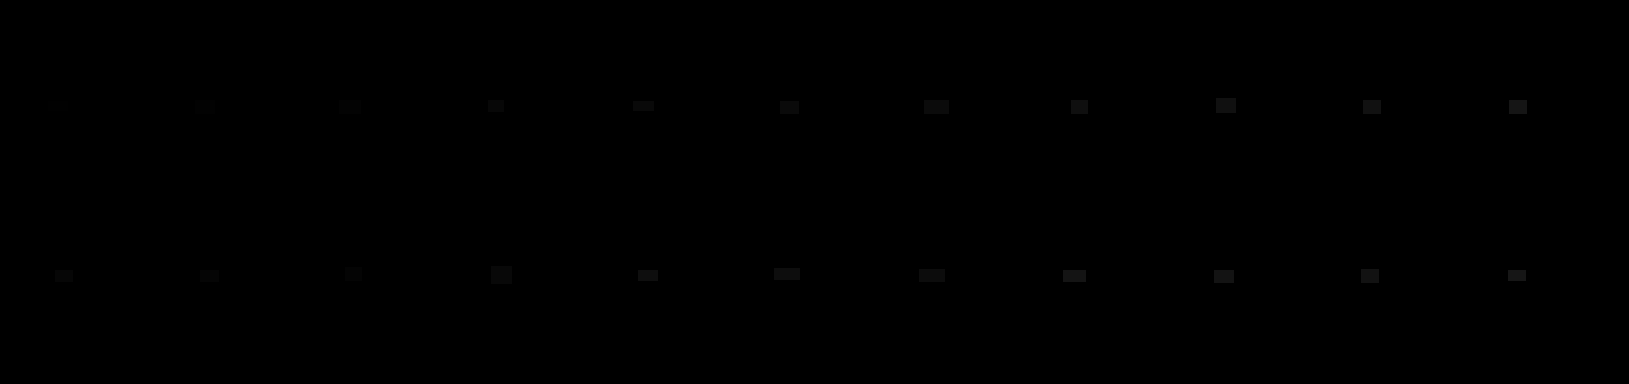light: (491, 266, 512, 284), (924, 100, 949, 114), (919, 269, 945, 282), (774, 268, 800, 280), (1216, 98, 1236, 113), (339, 100, 360, 114), (195, 100, 215, 114), (1063, 270, 1086, 282), (1508, 100, 1527, 114), (1214, 270, 1234, 283), (1363, 100, 1381, 114), (1361, 269, 1379, 283), (780, 101, 799, 114), (345, 267, 362, 281), (1071, 100, 1088, 114), (201, 270, 219, 282), (633, 101, 655, 111), (638, 270, 658, 281), (55, 270, 73, 282), (48, 101, 68, 111), (1508, 270, 1526, 281), (488, 100, 504, 112)
